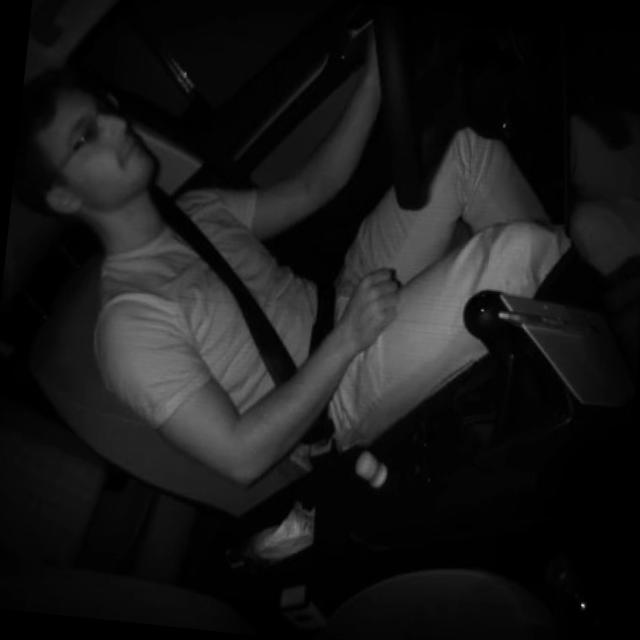pen: (494, 308, 604, 337)
